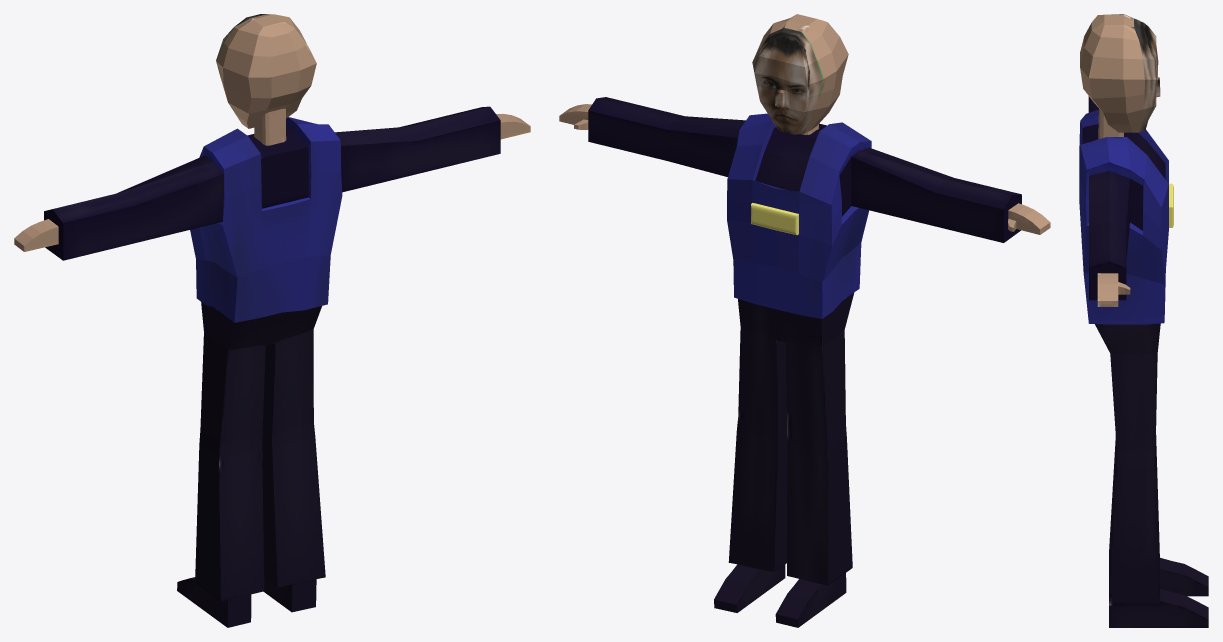
The model's file is Police.fbx.
The picture shows the model from 3 angles, left to right: view 1: azimuth 30°, elevation 25°; view 2: azimuth 150°, elevation 25°; view 3: azimuth 270°, elevation 25°; orthographic projection. The views are drawn at different scales.
Visible parts, largest first — view 1: Police; view 2: Police; view 3: Police.
Part boxes in pixels (x1=…): Police: x1=14, y1=14, x2=530, y2=627; Police: x1=559, y1=14, x2=1050, y2=627; Police: x1=1079, y1=14, x2=1208, y2=627.
Size of the model in its own units: 1058 by 1188 by 238.
